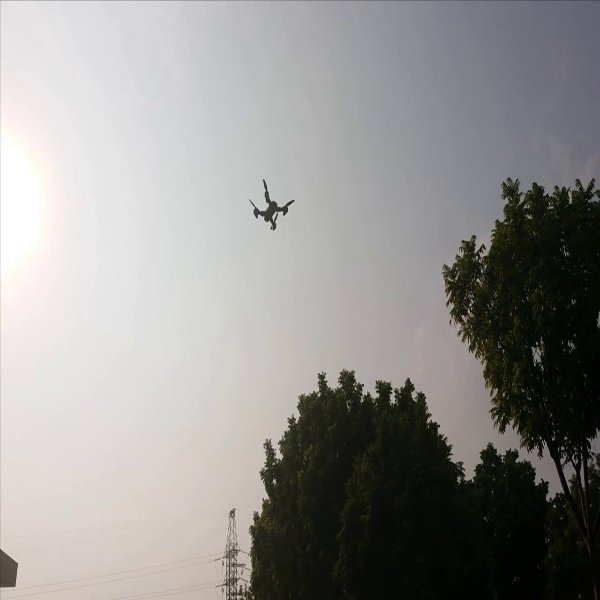drone: (238, 172, 303, 238)
